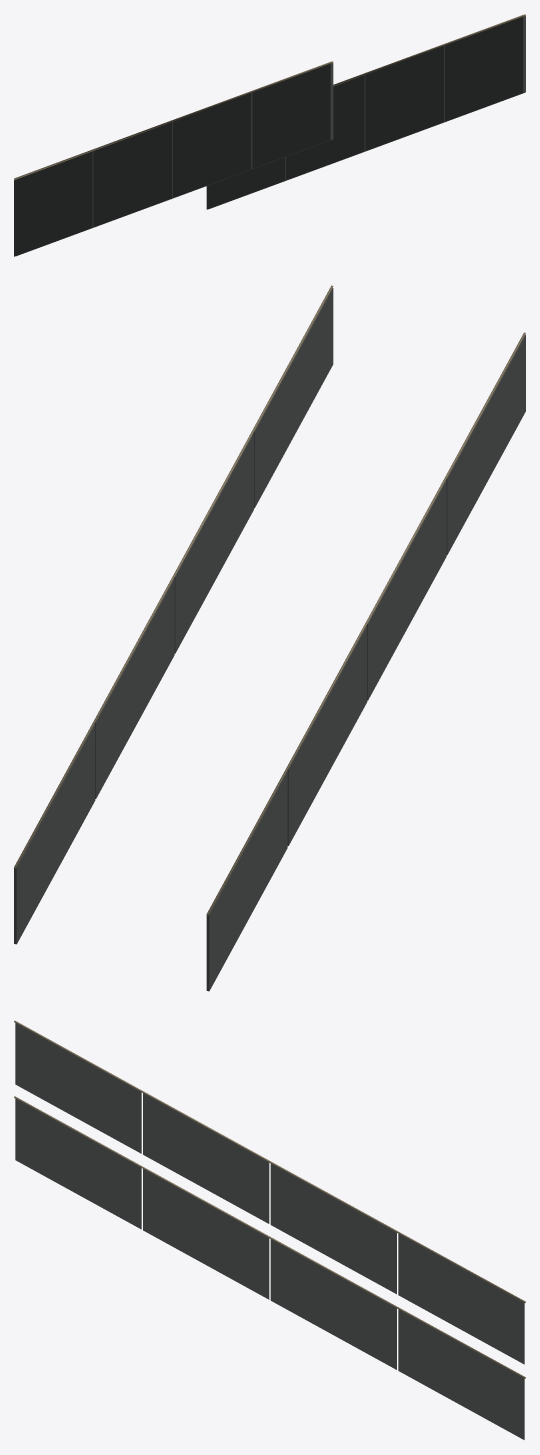
File: stair-dado.glb
The picture shows the model from 3 angles, top to bottom: view 1: azimuth 30°, elevation 25°; view 2: azimuth 150°, elevation 25°; view 3: azimuth 270°, elevation 25°; orthographic projection. The views are drawn at different scales.
Parts seen in each view (by area): view 1: Entry | honed basalt, Entry | patinated bronze; view 2: Entry | honed basalt, Entry | patinated bronze; view 3: Entry | honed basalt, Entry | patinated bronze.
Boxes of the visible parts, x1,y1,x2,y2 form: Entry | honed basalt: (14,16,525,256); Entry | patinated bronze: (14,14,525,179); Entry | honed basalt: (14,288,525,991); Entry | patinated bronze: (14,285,525,915); Entry | honed basalt: (15,1023,524,1439); Entry | patinated bronze: (14,1020,525,1378).
Bounding box in the file's own units: 1.79 × 3.74 × 5.05.
